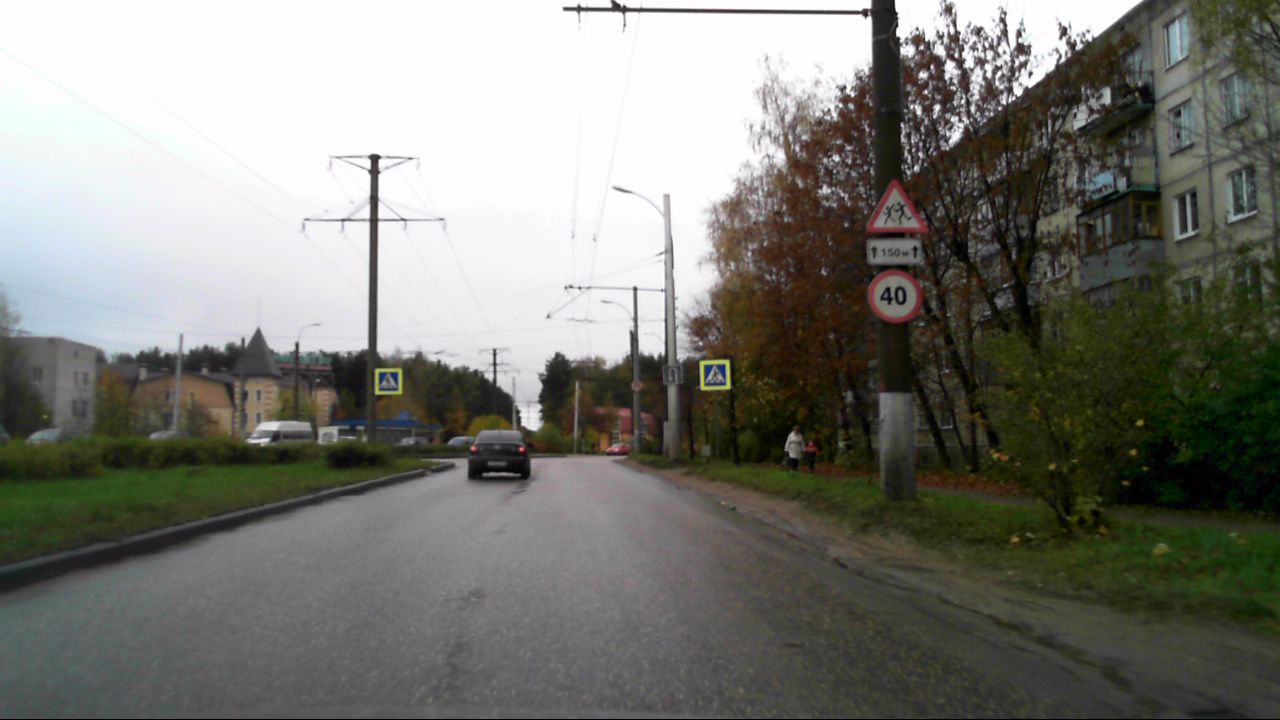Pedestrian Crossing: (703, 364, 727, 385)
U-turn: (663, 365, 682, 383)
speed_warning_40: (867, 269, 922, 323)
